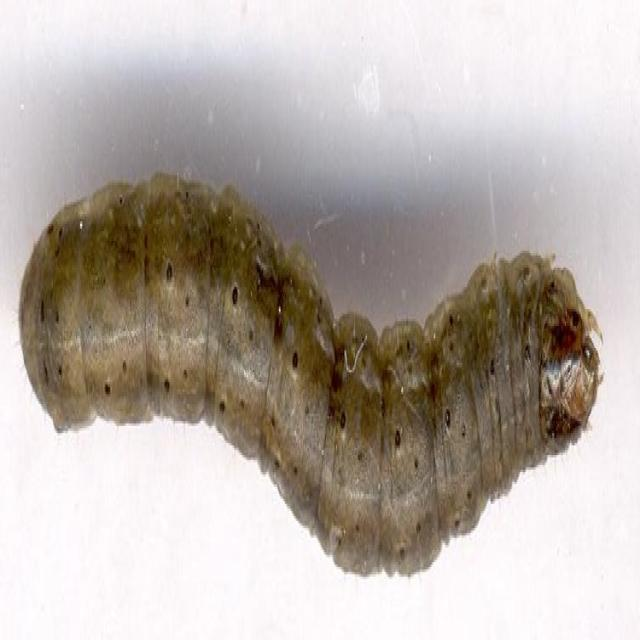black cutworm: (17, 135, 609, 612)
